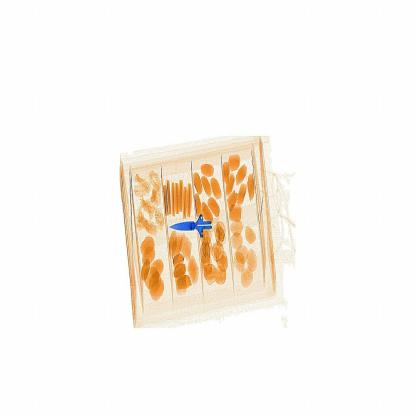gun: (166, 188, 238, 257)
